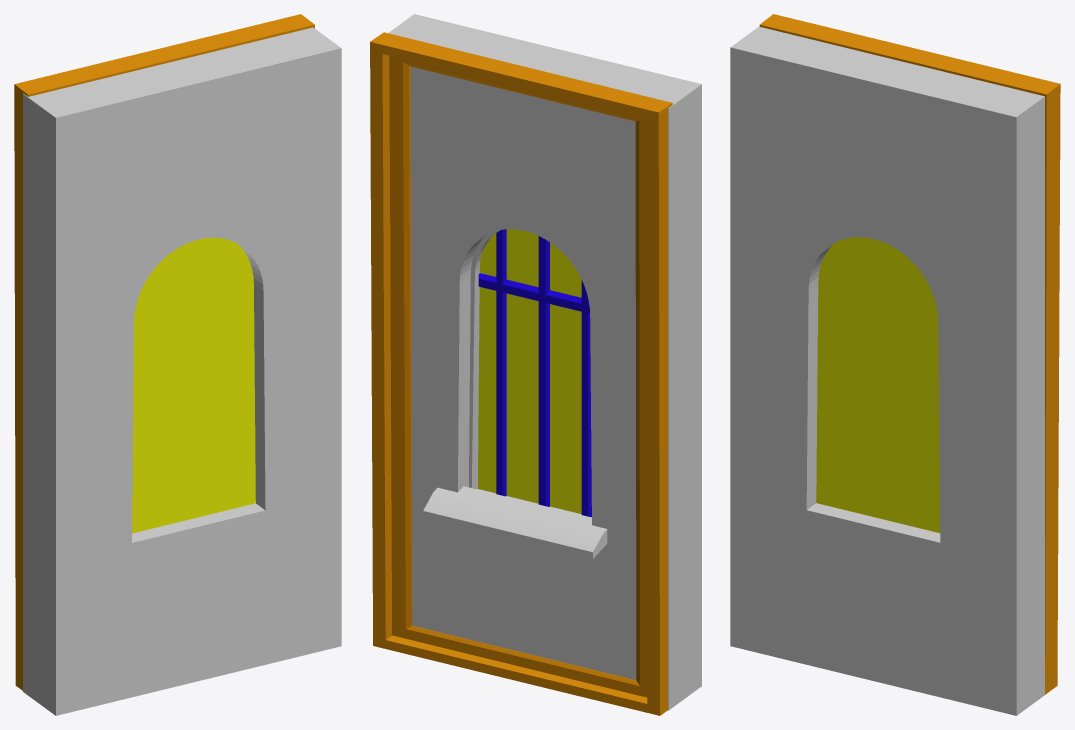
Rendered from Arch window wall 00.fbx.
The picture shows the model from 3 angles, left to right: view 1: azimuth 30°, elevation 25°; view 2: azimuth 150°, elevation 25°; view 3: azimuth 330°, elevation 25°; orthographic projection.
Parts seen in each view (by area): view 1: Arch Window Wall 01.003, Arch Window Frame Design 01.005, Outer wall frame 01.001, Arch Window Frame Base.003; view 2: Arch Window Wall 01.003, Outer wall frame 01.001, Arch Window Frame Design 01.005, Arch Window Frame Design 01.007, Arch Window Frame Base.003, Window Lower Curb 01.003; view 3: Arch Window Wall 01.003, Arch Window Frame Design 01.005, Outer wall frame 01.001, Arch Window Frame Base.003.
Part boxes in pixels (x1,y1,x2,y2): Arch Window Wall 01.003: (23, 27, 341, 715); Arch Window Frame Design 01.005: (132, 237, 255, 533); Outer wall frame 01.001: (14, 14, 314, 690); Arch Window Frame Base.003: (127, 230, 270, 548); Arch Window Wall 01.003: (388, 14, 701, 710); Outer wall frame 01.001: (370, 32, 672, 715); Arch Window Frame Design 01.005: (478, 229, 581, 513); Arch Window Frame Design 01.007: (478, 229, 591, 516); Arch Window Frame Base.003: (453, 222, 596, 526); Window Lower Curb 01.003: (423, 486, 607, 558); Arch Window Wall 01.003: (730, 26, 1044, 715); Arch Window Frame Design 01.005: (816, 237, 940, 532); Outer wall frame 01.001: (759, 14, 1060, 694); Arch Window Frame Base.003: (802, 230, 944, 548).
Size of the model in its own units: 201 by 402 by 57.32.
